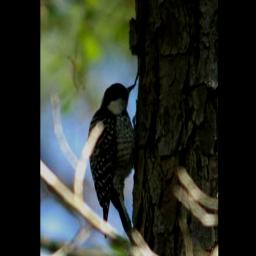Woodpecker: (87, 81, 138, 244)
